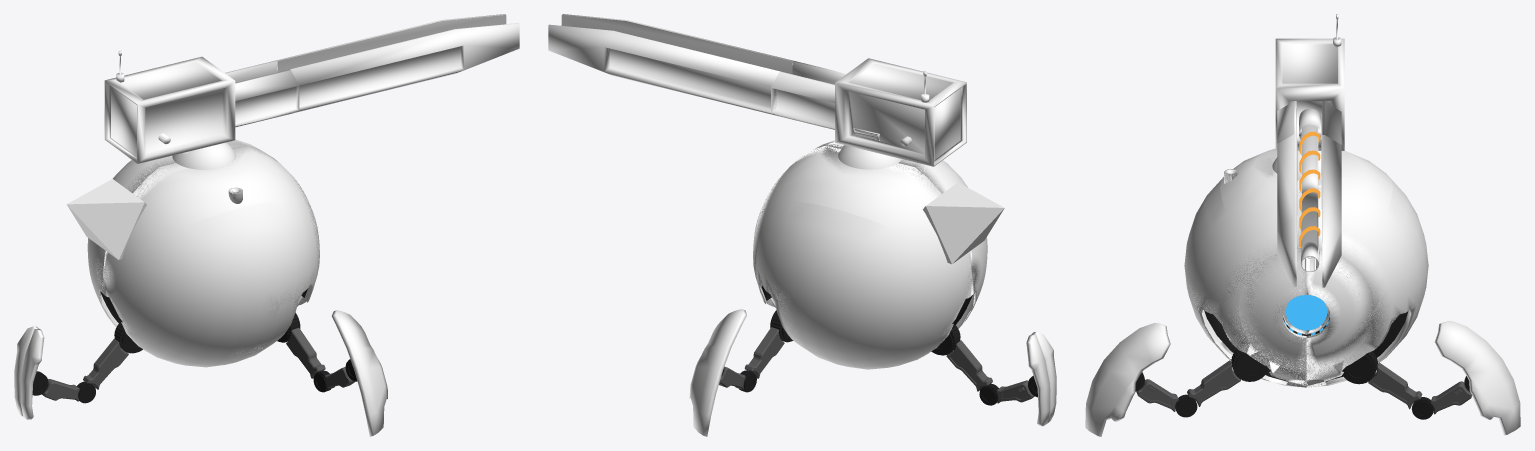
Rendered from Playerdroid.glb.
3 views of the same model, side by side, from view 1: azimuth 30°, elevation 25°; view 2: azimuth 150°, elevation 25°; view 3: azimuth 270°, elevation 25° (orthographic). The views are drawn at different scales.
Parts seen in each view (by area): view 1: main body, gun, foot f l, sheild generator.004, foot back, sheild generator.003, Plane.002, Plane, Plane.003; view 2: main body, gun, foot f r, sheild generator.002, foot back, sheild generator.003, Plane.002, Plane.004, Plane.003; view 3: main body, gun, foot f r, foot f l, Plane, Plane.004, energy spiral, gear, gear.002, Plane.001, Plane.005.
Part boxes in pixels (x1,y1,x2,y2): main body: (87,139,319,367); gun: (104,14,519,163); foot f l: (331,310,387,436); sheild generator.004: (67,202,144,259); foot back: (14,326,44,419); sheild generator.003: (67,179,143,204); Plane.002: (83,338,128,389); Plane: (286,327,325,378); Plane.003: (42,379,79,401); main body: (753,140,987,369); gun: (548,14,966,166); foot f r: (689,309,746,436); sheild generator.002: (926,206,1004,263); foot back: (1026,332,1056,426); sheild generator.003: (926,182,1004,207); Plane.002: (946,340,992,391); Plane.004: (744,327,784,378); Plane.003: (996,380,1034,403); main body: (1184,148,1428,387); gun: (1275,14,1344,287); foot f r: (1434,320,1520,435); foot f l: (1085,323,1170,436); Plane: (1187,360,1240,406); Plane.004: (1368,362,1422,409); energy spiral: (1299,131,1320,254); gear: (1231,349,1268,381); gear.002: (1342,351,1377,384); Plane.001: (1136,379,1178,411); Plane.005: (1430,381,1472,414).
Bounding box in the file's own units: 4.87 × 3.14 × 3.57.
